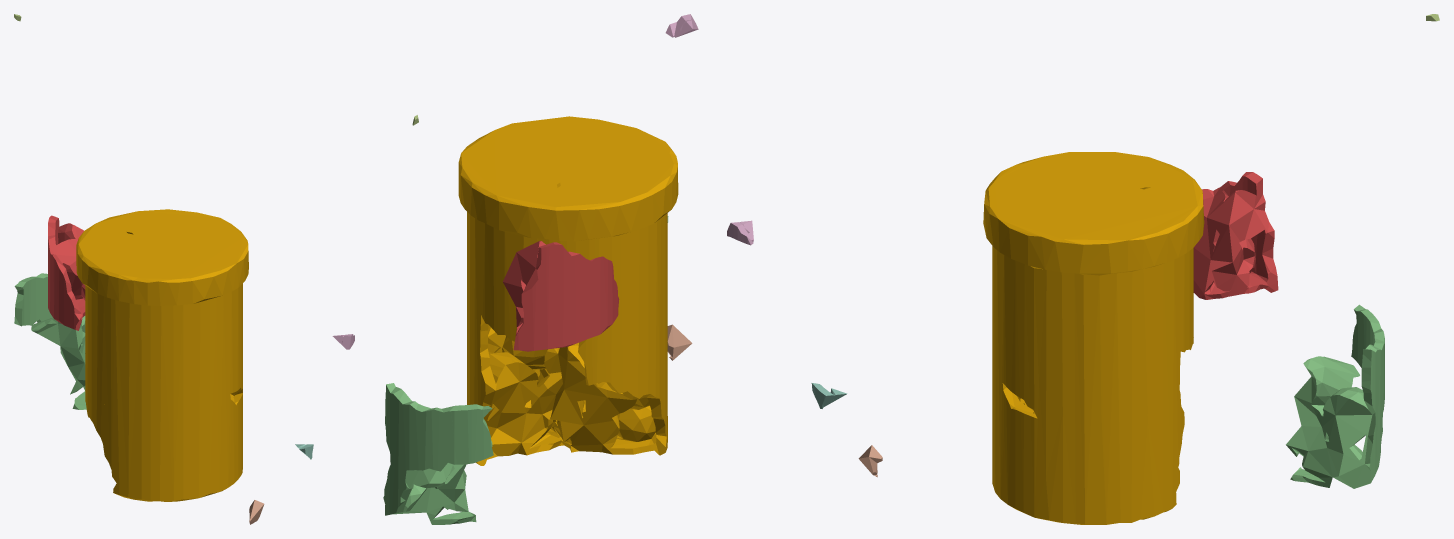
File: fractured_78_8pcs_transformed.glb
3 views of the same model, side by side, from view 1: azimuth 30°, elevation 25°; view 2: azimuth 150°, elevation 25°; view 3: azimuth 270°, elevation 25° (orthographic). The views are drawn at different scales.
Visible parts, largest first — view 1: piece_0.obj, piece_3.obj, piece_1.obj; view 2: piece_0.obj, piece_3.obj, piece_1.obj, piece_8.obj, piece_6.obj; view 3: piece_0.obj, piece_3.obj, piece_1.obj.
Part boxes in pixels (left/top/right/bottom): piece_0.obj: left=76, top=209, right=248, bottom=501; piece_3.obj: left=14, top=273, right=86, bottom=409; piece_1.obj: left=48, top=215, right=85, bottom=330; piece_0.obj: left=458, top=116, right=678, bottom=465; piece_3.obj: left=383, top=383, right=493, bottom=524; piece_1.obj: left=503, top=241, right=619, bottom=351; piece_8.obj: left=667, top=324, right=692, bottom=360; piece_6.obj: left=665, top=14, right=698, bottom=37; piece_0.obj: left=983, top=152, right=1204, bottom=524; piece_3.obj: left=1286, top=304, right=1384, bottom=488; piece_1.obj: left=1193, top=172, right=1278, bottom=299.
Size of the model in its own units: 0.6918 by 1.6 by 2.24.
